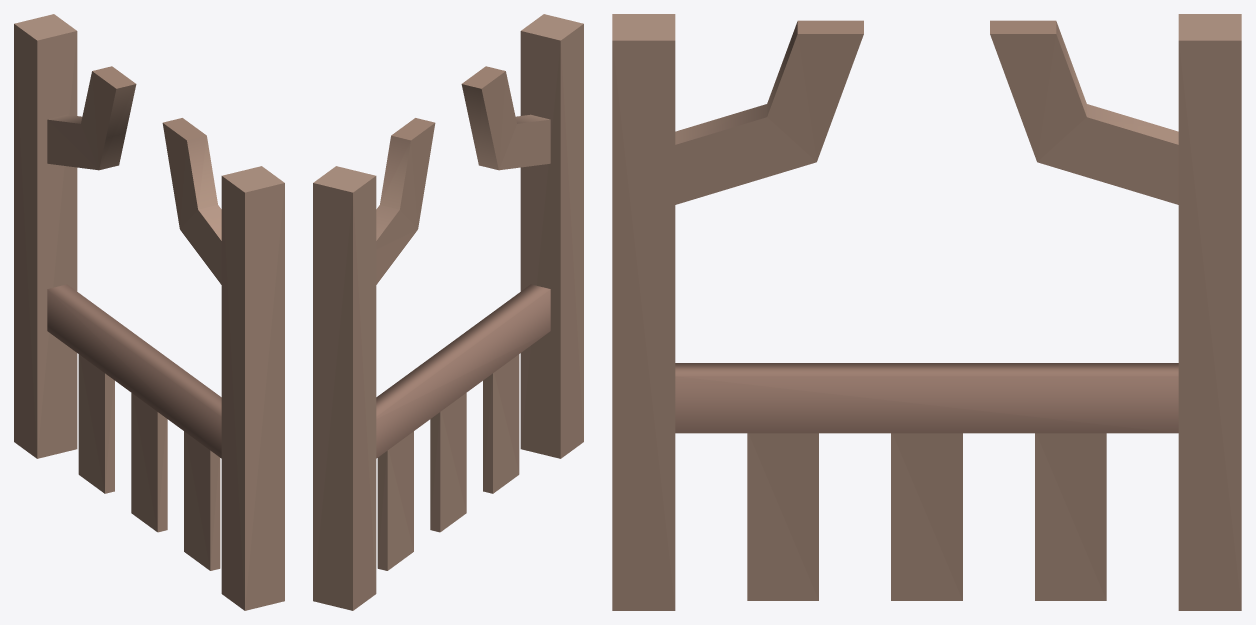
Rendered from kenney_balcony-wall-fence.fbx.
3 renders of one model, left to right at view 1: azimuth 30°, elevation 25°; view 2: azimuth 150°, elevation 25°; view 3: azimuth 270°, elevation 25°, orthographic. The views are drawn at different scales.
Parts seen in each view (by area): view 1: balcony-wall-fence; view 2: balcony-wall-fence; view 3: balcony-wall-fence.
Part boxes in pixels (left/top/right/bottom): balcony-wall-fence: left=14, top=14, right=284, bottom=610; balcony-wall-fence: left=313, top=14, right=583, bottom=610; balcony-wall-fence: left=612, top=14, right=1241, bottom=610.
Bounding box in the file's own units: 10 × 100 × 100.
